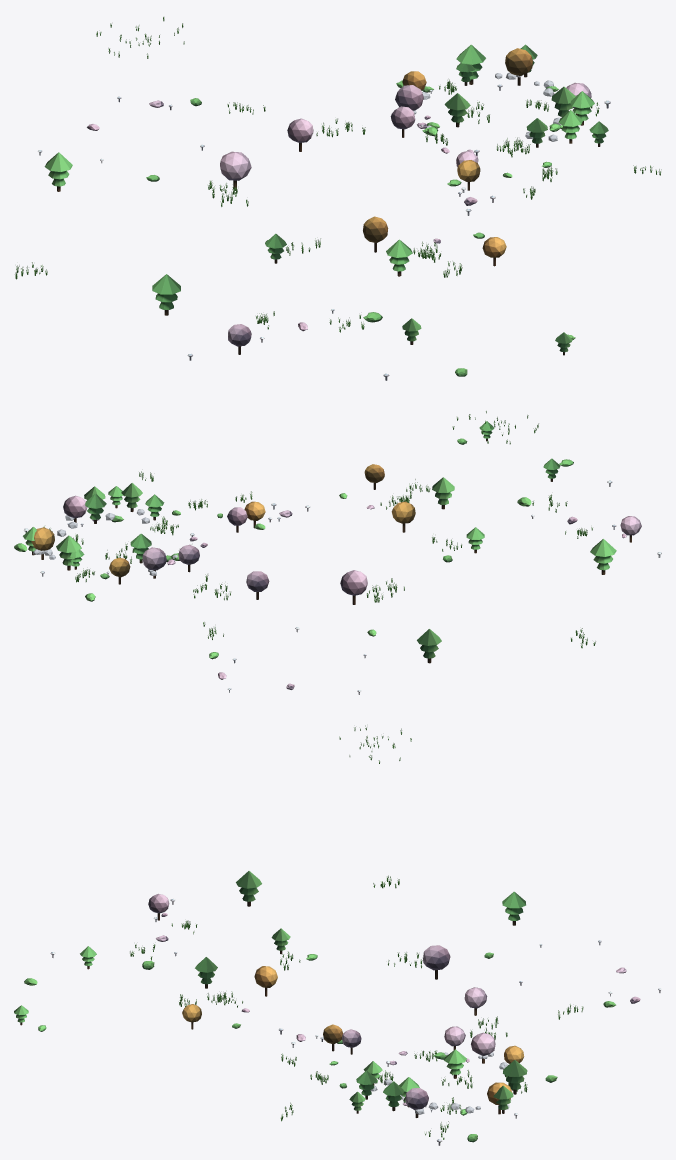
The model's file is foliage.glb.
The picture shows the model from 3 angles, top to bottom: view 1: azimuth 30°, elevation 25°; view 2: azimuth 150°, elevation 25°; view 3: azimuth 270°, elevation 25°; orthographic projection. The views are drawn at different scales.
Parts seen in each view (by area): view 1: tree_inst_sakur_01, tree_inst_green_04, tree_inst_p10_projects_tree_red_07, tree_inst_green_03, tree_inst_red_m_00, tree_inst_p10_projects_tree_sakura_06, tree_inst_green_00, tree_inst_sakur_03; view 2: tree_inst_sakur_01, tree_inst_green_04, tree_inst_green_03, tree_inst_p10_projects_tree_sakura_06, tree_inst_red_m_00, tree_inst_p10_projects_tree_green_02, tree_inst_p10_projects_tree_red_07, tree_inst_p10_projects_tree_sakura_09, tree_inst_green_00; view 3: no part large enough to name.
Boxes of the visible parts, x1,y1,x2,y2 form: tree_inst_sakur_01: [220, 151, 251, 190]; tree_inst_green_04: [152, 274, 180, 315]; tree_inst_p10_projects_tree_red_07: [505, 48, 532, 85]; tree_inst_green_03: [44, 152, 72, 191]; tree_inst_red_m_00: [363, 216, 388, 252]; tree_inst_p10_projects_tree_sakura_06: [395, 85, 423, 110]; tree_inst_green_00: [386, 239, 412, 276]; tree_inst_sakur_03: [287, 118, 313, 151]; tree_inst_sakur_01: [340, 570, 367, 604]; tree_inst_green_04: [590, 539, 616, 574]; tree_inst_green_03: [417, 629, 441, 663]; tree_inst_p10_projects_tree_sakura_06: [142, 547, 166, 578]; tree_inst_red_m_00: [391, 501, 415, 532]; tree_inst_p10_projects_tree_green_02: [56, 535, 81, 570]; tree_inst_p10_projects_tree_red_07: [31, 527, 54, 559]; tree_inst_p10_projects_tree_sakura_09: [63, 495, 87, 522]; tree_inst_green_00: [432, 477, 454, 509].
Bounding box in the file's own units: 98.67 × 34.13 × 102.
Materials: 8 (7 with a texture image).
